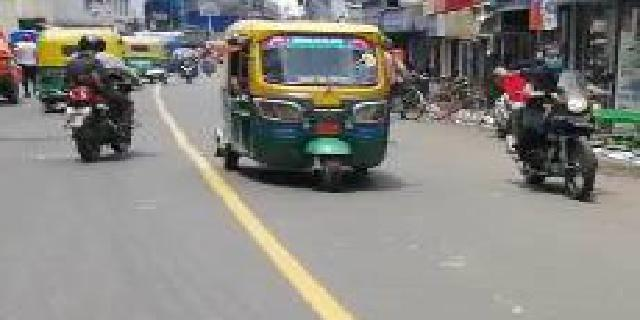Autorickshaw: (212, 11, 390, 197), (32, 26, 124, 113), (122, 36, 175, 88)
Motorbike: (497, 38, 608, 206), (57, 32, 140, 168)
